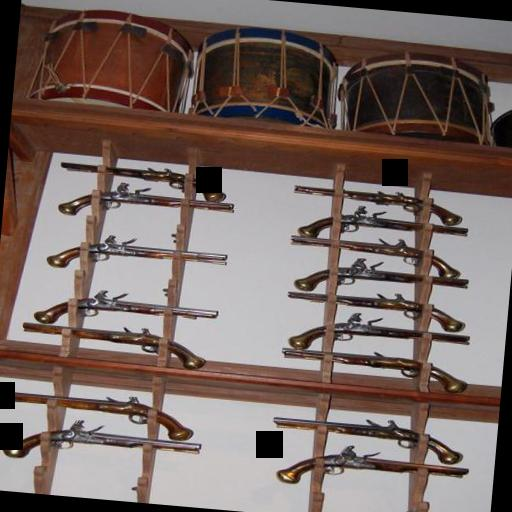Handgun: (270, 400, 474, 466), (264, 441, 469, 504), (39, 224, 233, 288), (272, 307, 475, 364), (20, 314, 212, 374), (28, 280, 226, 336), (278, 342, 474, 398), (289, 250, 474, 306), (279, 282, 476, 334), (50, 178, 236, 231), (287, 174, 472, 226), (52, 152, 234, 202), (288, 202, 470, 252), (284, 234, 470, 278)
